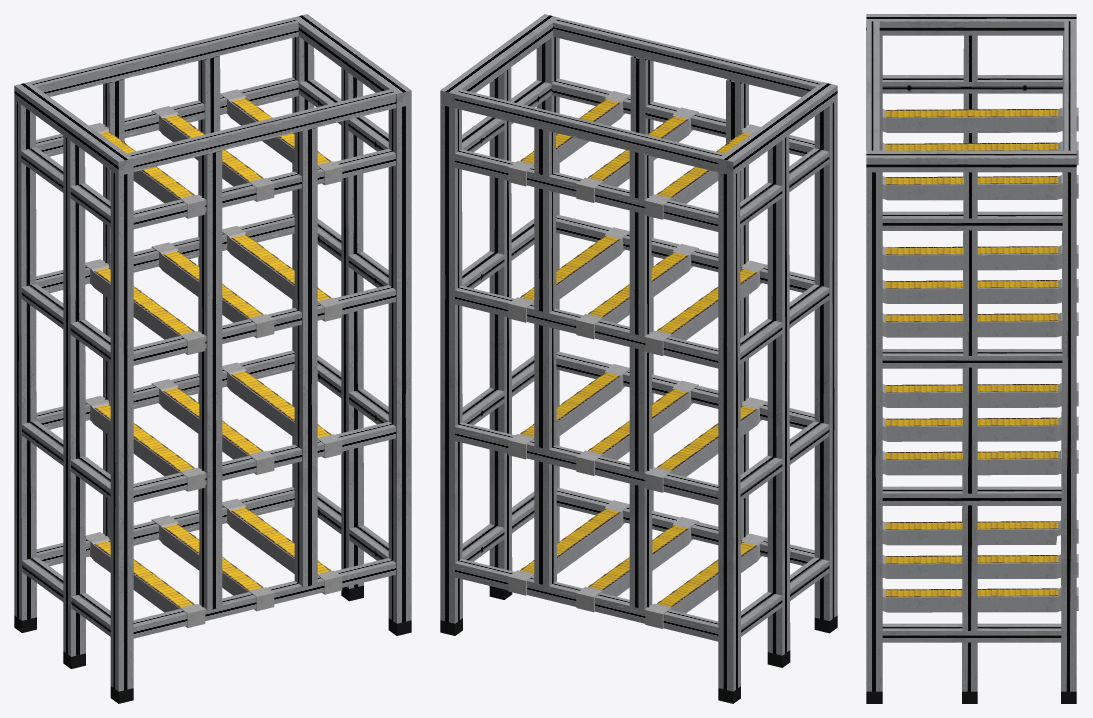
File: GaoJiaZi.FBX
3 renders of one model, left to right at view 1: azimuth 30°, elevation 25°; view 2: azimuth 150°, elevation 25°; view 3: azimuth 270°, elevation 25°, orthographic.
Visible parts, largest first — view 1: GaoJiaZi; view 2: GaoJiaZi; view 3: GaoJiaZi.
Part boxes in pixels (x1,y1,x2,y2): GaoJiaZi: (14, 14, 411, 703); GaoJiaZi: (440, 14, 837, 703); GaoJiaZi: (866, 14, 1078, 703).
Size of the model in its own units: 97.58 by 172 by 60.84.
